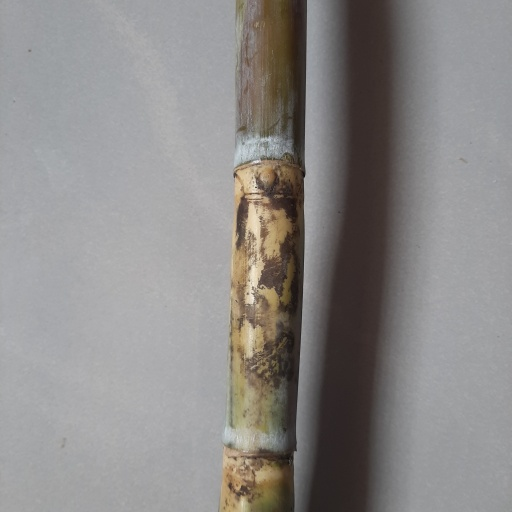Bud: (257, 167, 279, 195)
